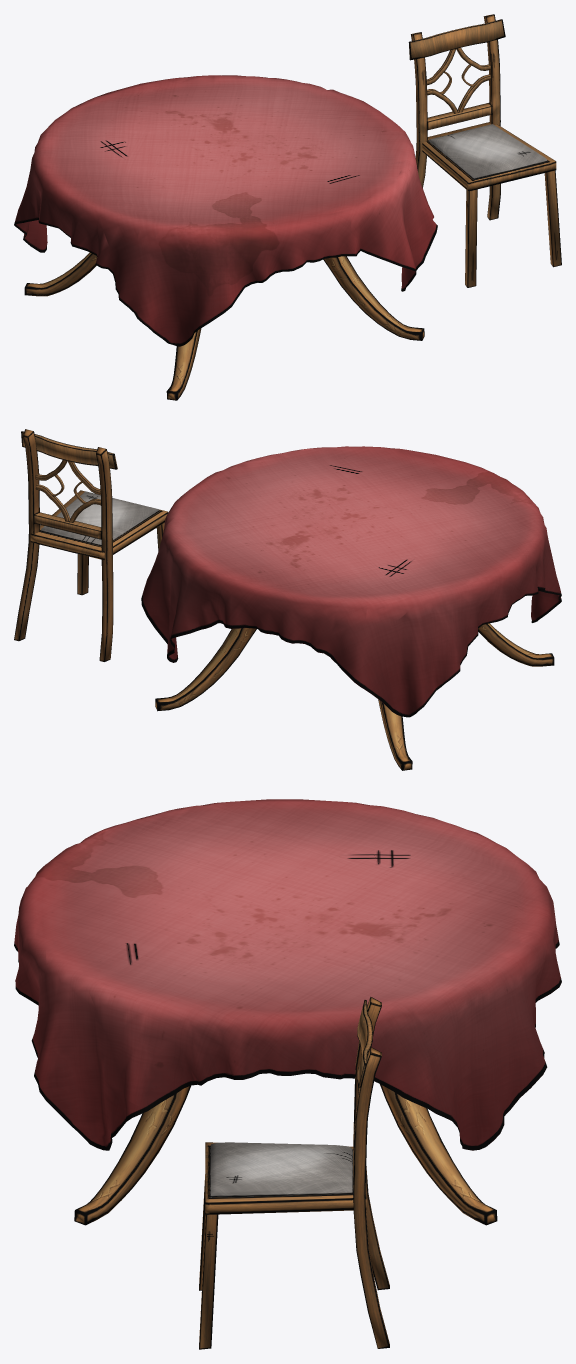
Rendered from DinnerTableSetup.fbx.
The picture shows the model from 3 angles, top to bottom: view 1: azimuth 30°, elevation 25°; view 2: azimuth 150°, elevation 25°; view 3: azimuth 270°, elevation 25°; orthographic projection. The views are drawn at different scales.
Visible parts, largest first — view 1: DinnerTableCloth, DinnerChair_regular, DinnerTable; view 2: DinnerTableCloth, DinnerChair_regular, DinnerTable; view 3: DinnerTableCloth, DinnerChair_regular, DinnerTable.
Part boxes in pixels (box(x1,y1,x2,y2)): DinnerTableCloth: box(14, 75, 437, 346); DinnerChair_regular: box(408, 14, 561, 287); DinnerTable: box(24, 252, 424, 400); DinnerTableCloth: box(141, 446, 561, 717); DinnerChair_regular: box(14, 429, 168, 661); DinnerTable: box(155, 623, 554, 770); DinnerTableCloth: box(14, 799, 561, 1150); DinnerChair_regular: box(199, 997, 389, 1349); DinnerTable: box(74, 1084, 497, 1225).
Size of the model in its own units: 2.75 by 1.15 by 1.95.
